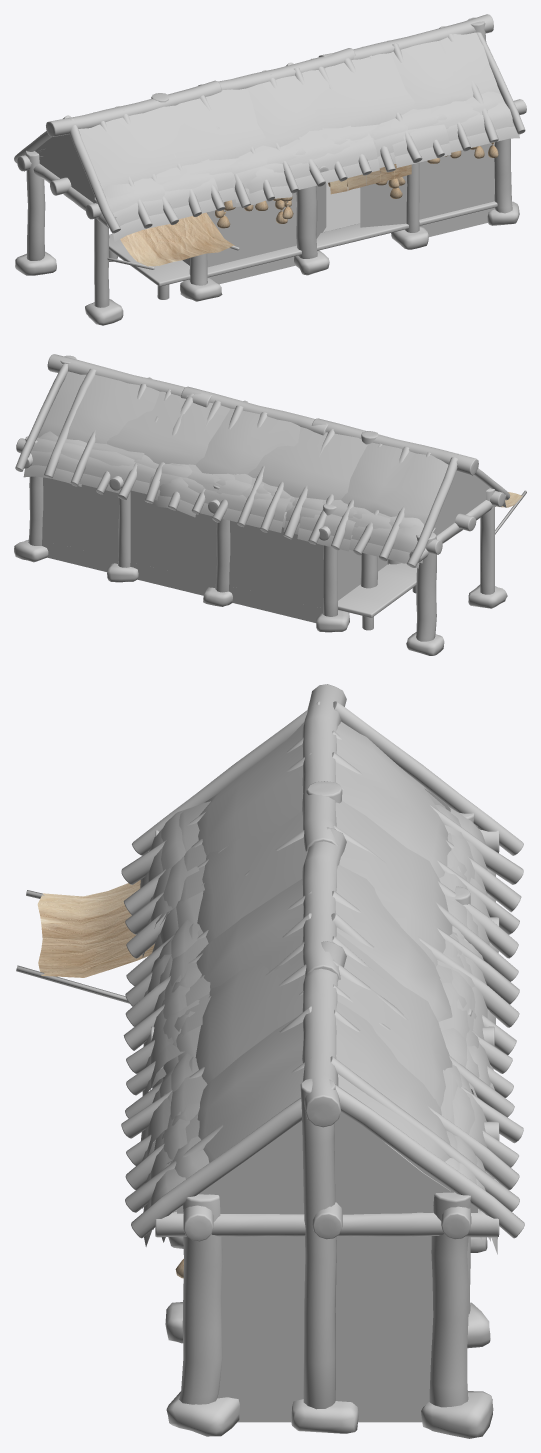
Rendered from ThatchedHouseA.fbx.
The picture shows the model from 3 angles, top to bottom: view 1: azimuth 30°, elevation 25°; view 2: azimuth 150°, elevation 25°; view 3: azimuth 270°, elevation 25°; orthographic projection. The views are drawn at different scales.
Visible parts, largest first — view 1: RoofAlbedoA, ThatchedHouseA_11, RoofAlphaA, ThatchedHouseA_07, ThatchedHouseA_06, ThatchedHouseA_04, ThatchedHouseA_03, ThatchedHouseA_10, ThatchedHouseA_08, ThatchedHouseA_02; view 2: RoofAlbedoA, ThatchedHouseA_11, ThatchedHouseA_07, RoofAlphaA, ThatchedHouseA_03, ThatchedHouseA_04; view 3: ThatchedHouseA_11, RoofAlbedoA, ThatchedHouseA_07, RoofAlphaA, ThatchedHouseA_03, ThatchedHouseA_06, ThatchedHouseA_02.
Part boxes in pixels (box(x1,y1,x2,y2)): RoofAlbedoA: box(78, 32, 500, 190); ThatchedHouseA_11: box(14, 14, 526, 307); RoofAlphaA: box(24, 91, 519, 241); ThatchedHouseA_07: box(35, 134, 494, 284); ThatchedHouseA_06: box(120, 164, 411, 266); ThatchedHouseA_04: box(109, 201, 497, 286); ThatchedHouseA_03: box(15, 201, 519, 325); ThatchedHouseA_10: box(316, 168, 407, 238); ThatchedHouseA_08: box(215, 142, 498, 228); ThatchedHouseA_02: box(107, 183, 360, 269); RoofAlbedoA: box(37, 371, 448, 525); ThatchedHouseA_11: box(15, 354, 510, 641); ThatchedHouseA_07: box(31, 411, 489, 622); RoofAlphaA: box(23, 431, 506, 568); ThatchedHouseA_03: box(14, 540, 507, 655); ThatchedHouseA_04: box(338, 563, 416, 617); ThatchedHouseA_11: box(121, 684, 524, 1409); RoofAlbedoA: box(195, 721, 452, 1191); ThatchedHouseA_07: box(177, 788, 477, 1422); RoofAlphaA: box(140, 801, 498, 1254); ThatchedHouseA_03: box(165, 1236, 493, 1438); ThatchedHouseA_06: box(37, 880, 154, 977); ThatchedHouseA_02: box(16, 890, 129, 1003).
Bounding box in the file's own units: 1101 × 429 × 570.
